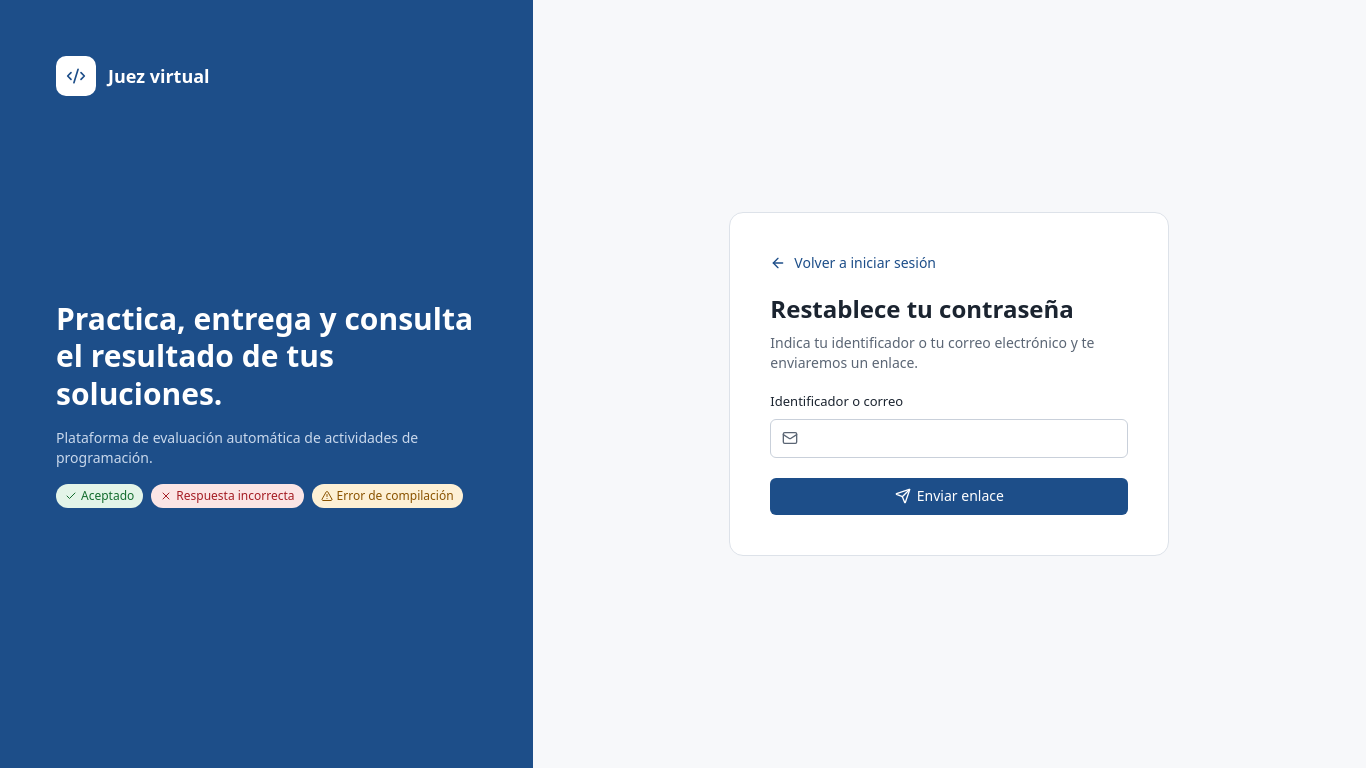
Scenario: restablecimiento de contraseña › tras la solicitud muestra el mensaje neutro
Type "nadie@ejemplo.es" into the field labelled "Identificador o correo" at {"x": 949, "y": 438}, box [770, 419, 1128, 458]
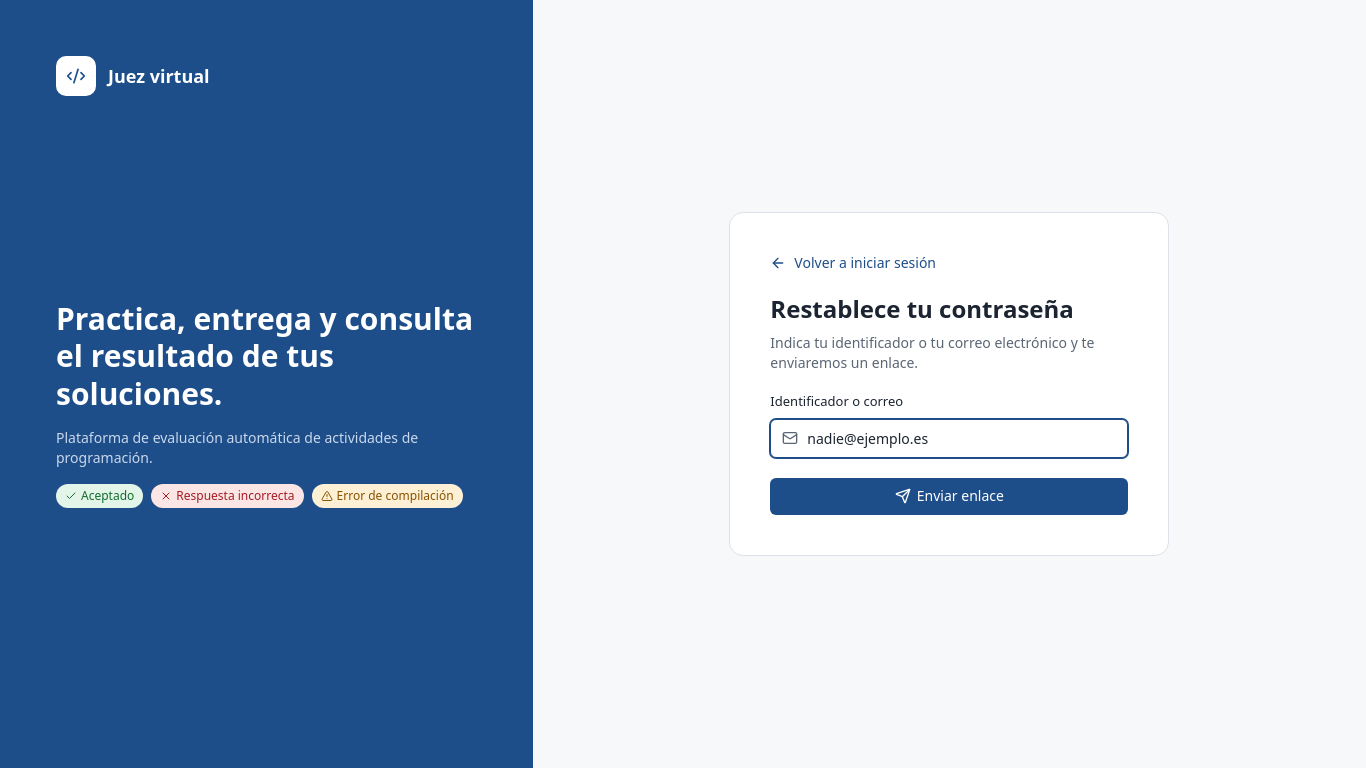
Click the button "Enviar enlace" at {"x": 949, "y": 496}, box [770, 478, 1128, 515]
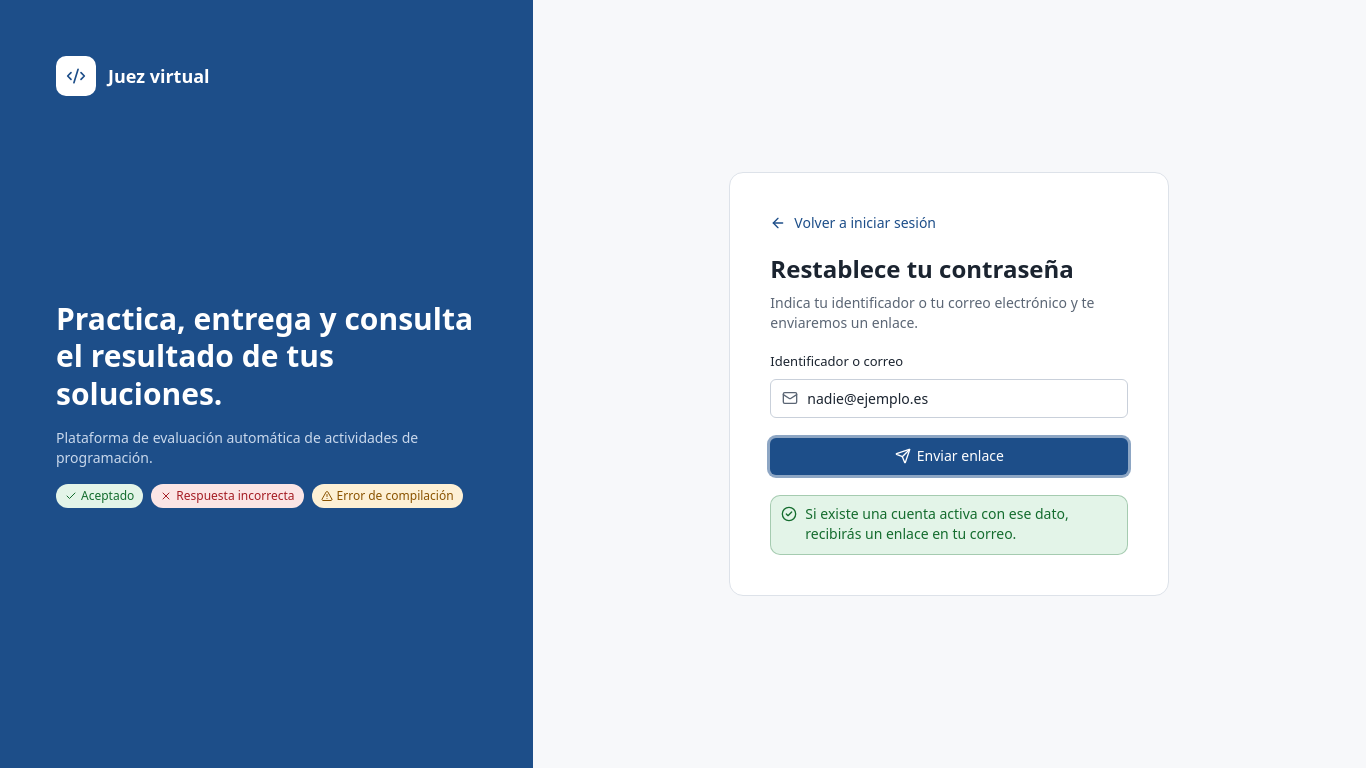
Result: the message reads "Si existe una cuenta activa con ese dato, recibirás un enlace en tu correo." at [805, 504, 1069, 543]
